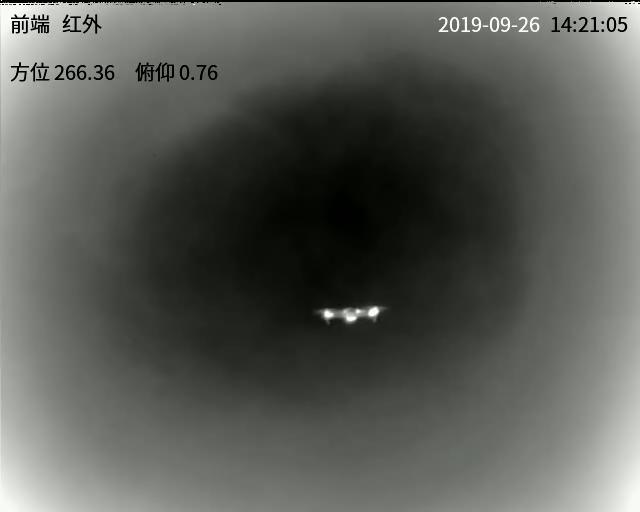uav: (313, 301, 386, 327)
